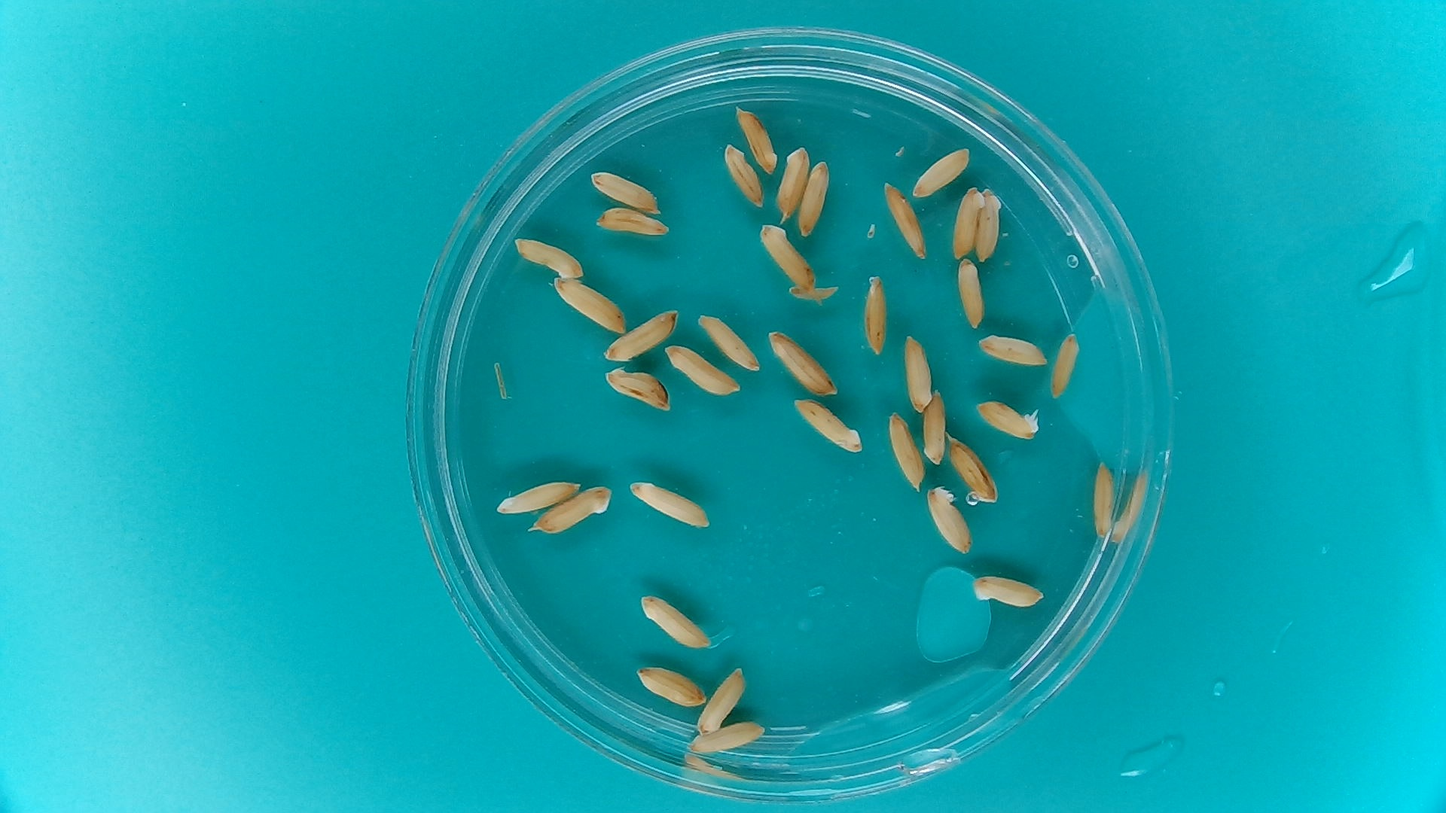no: (767, 327, 838, 397), (638, 592, 712, 652), (790, 396, 865, 455), (627, 479, 712, 530), (528, 486, 614, 536), (554, 276, 628, 334), (759, 223, 819, 291), (602, 309, 678, 362), (695, 312, 761, 373), (664, 345, 740, 396), (946, 432, 999, 504), (882, 179, 927, 262), (733, 103, 779, 178), (696, 668, 746, 736), (512, 235, 587, 280), (886, 410, 925, 494), (493, 479, 581, 516), (911, 145, 970, 200), (926, 485, 972, 555), (636, 662, 706, 708), (589, 171, 663, 214), (605, 367, 673, 410), (971, 572, 1046, 609), (796, 160, 831, 239), (688, 721, 766, 756), (902, 333, 936, 413), (723, 142, 764, 207), (776, 148, 811, 224), (976, 331, 1049, 367), (862, 272, 891, 360), (951, 185, 985, 259), (974, 184, 1005, 262), (955, 257, 988, 330), (595, 207, 670, 239), (1091, 460, 1118, 542), (1050, 331, 1082, 400), (923, 388, 947, 469)
yes: (976, 397, 1043, 442)
